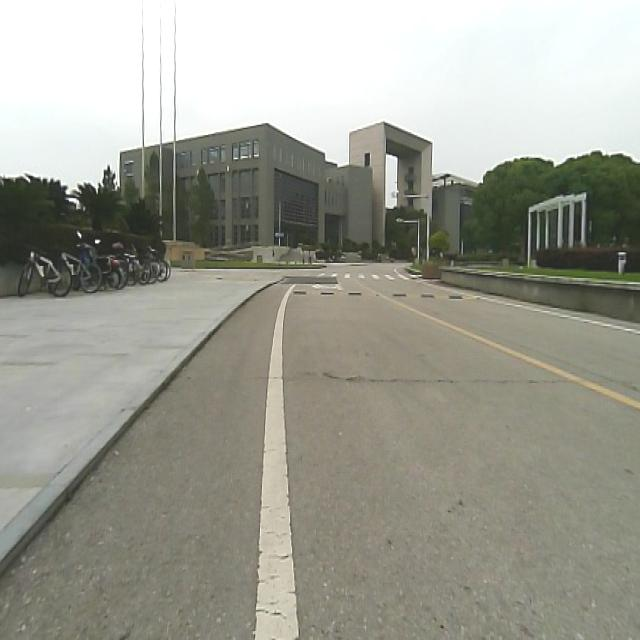Speed Bump: (292, 285, 483, 299)
